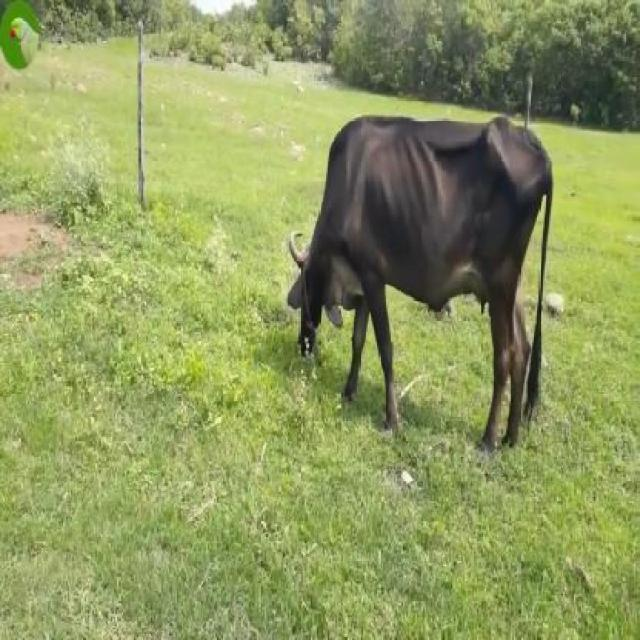Cow: (288, 117, 555, 471)
